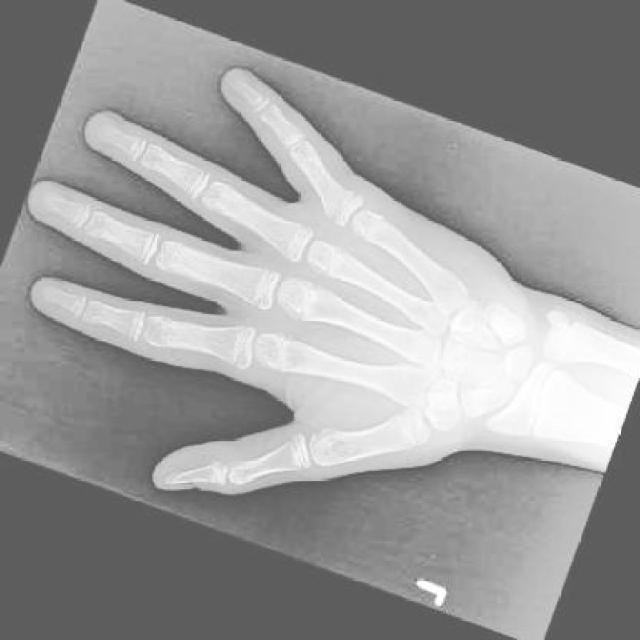Fracture: (309, 180, 362, 231)
